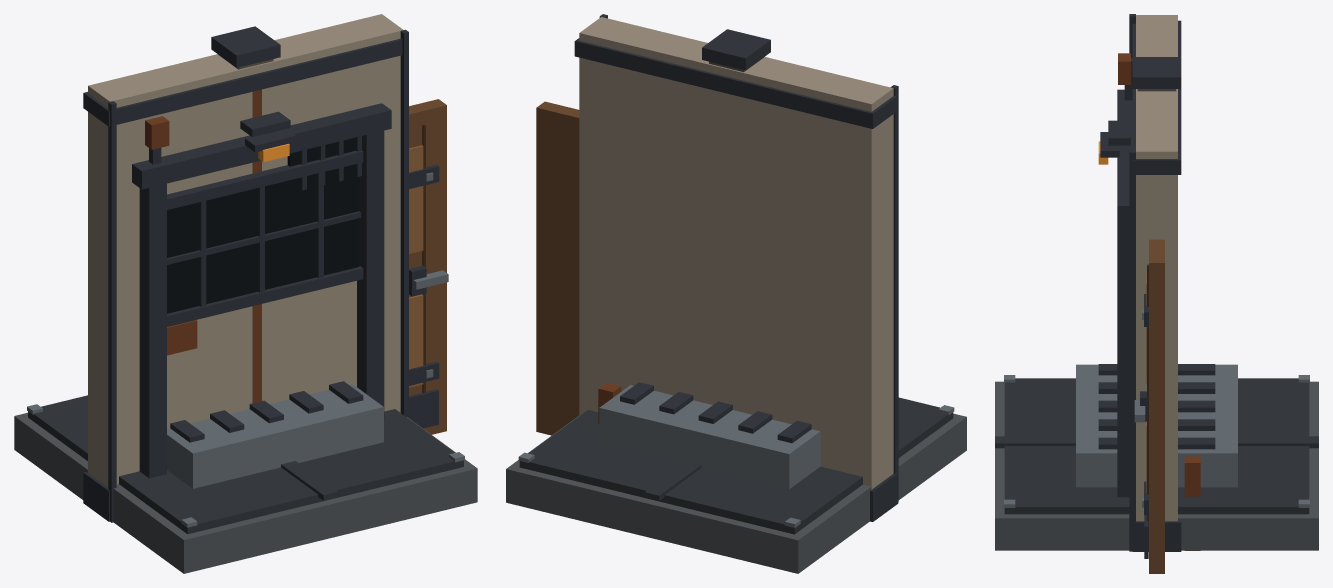
File: house.obj
The picture shows the model from 3 angles, left to right: view 1: azimuth 30°, elevation 25°; view 2: azimuth 150°, elevation 25°; view 3: azimuth 270°, elevation 25°; orthographic projection. The views are drawn at different scales.
Visible parts, largest first — view 1: wall_solid, wall_door, roof_tile, wall_window, roof_unit, door, corner_post; view 2: wall_solid, roof_tile, wall_door, roof_unit, door, corner_post; view 3: roof_tile, wall_solid, roof_unit, wall_door, door, corner_post.
Boxes of the visible parts, x1,y1,x2,y2 form: wall_solid: (83,14,408,522); wall_door: (90,15,402,488); roof_tile: (14,395,477,573); wall_window: (167,150,363,355); roof_unit: (167,381,383,488); door: (409,99,448,434); corner_post: (211,26,280,403); wall_solid: (574,14,898,521); roof_tile: (506,397,966,573); wall_door: (579,18,894,521); roof_unit: (598,382,820,489); door: (536,101,579,435); corner_post: (702,29,770,72); roof_tile: (995,375,1318,550); wall_solid: (1118,14,1181,551); roof_unit: (1076,364,1237,550); wall_door: (1098,15,1177,497); door: (1134,239,1164,573); corner_post: (1132,57,1181,91).
Size of the model in its own units: 2.36 by 2.93 by 2.
